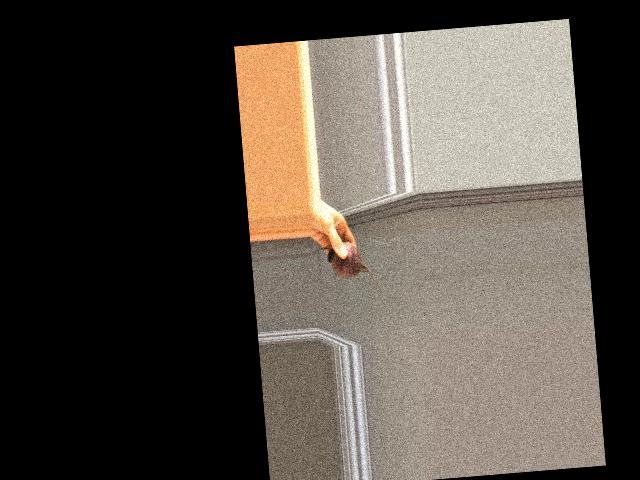beet: (310, 239, 380, 300)
